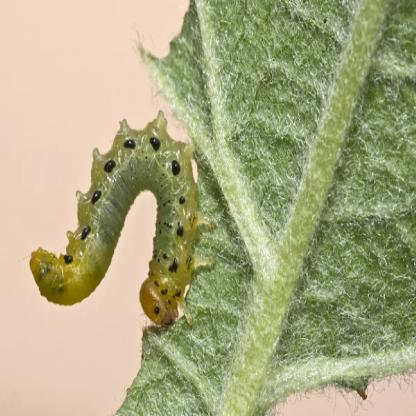sawfly: (26, 110, 211, 335)
